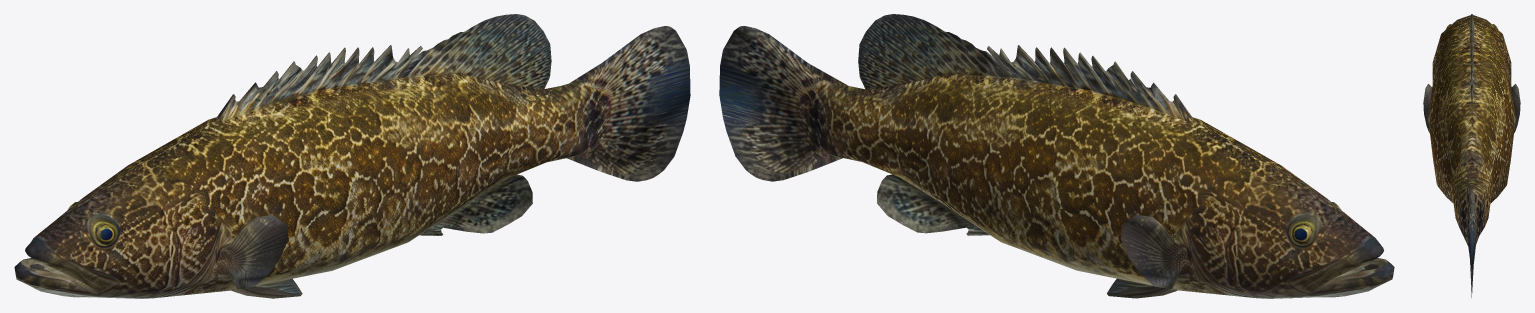
File: ssogari.glb
3 renders of one model, left to right at view 1: azimuth 30°, elevation 25°; view 2: azimuth 150°, elevation 25°; view 3: azimuth 270°, elevation 25°, orthographic. The views are drawn at different scales.
Visible parts, largest first — view 1: tripo_node_975ebf03-c476-4ad3-9c34-30591717c465; view 2: tripo_node_975ebf03-c476-4ad3-9c34-30591717c465; view 3: tripo_node_975ebf03-c476-4ad3-9c34-30591717c465.
Boxes of the visible parts, x1,y1,x2,y2 form: tripo_node_975ebf03-c476-4ad3-9c34-30591717c465: [14, 14, 690, 298]; tripo_node_975ebf03-c476-4ad3-9c34-30591717c465: [719, 14, 1394, 298]; tripo_node_975ebf03-c476-4ad3-9c34-30591717c465: [1423, 14, 1520, 297].
Size of the model in its own units: 0.9995 by 0.3364 by 0.1714.
Materials: 1 (1 with a texture image).
